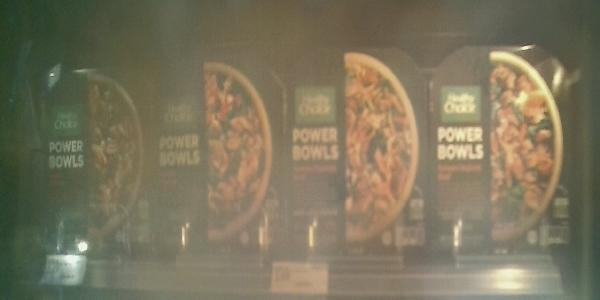pizza1: (286, 38, 432, 255), (434, 38, 576, 254), (156, 46, 286, 259), (39, 44, 157, 259)
